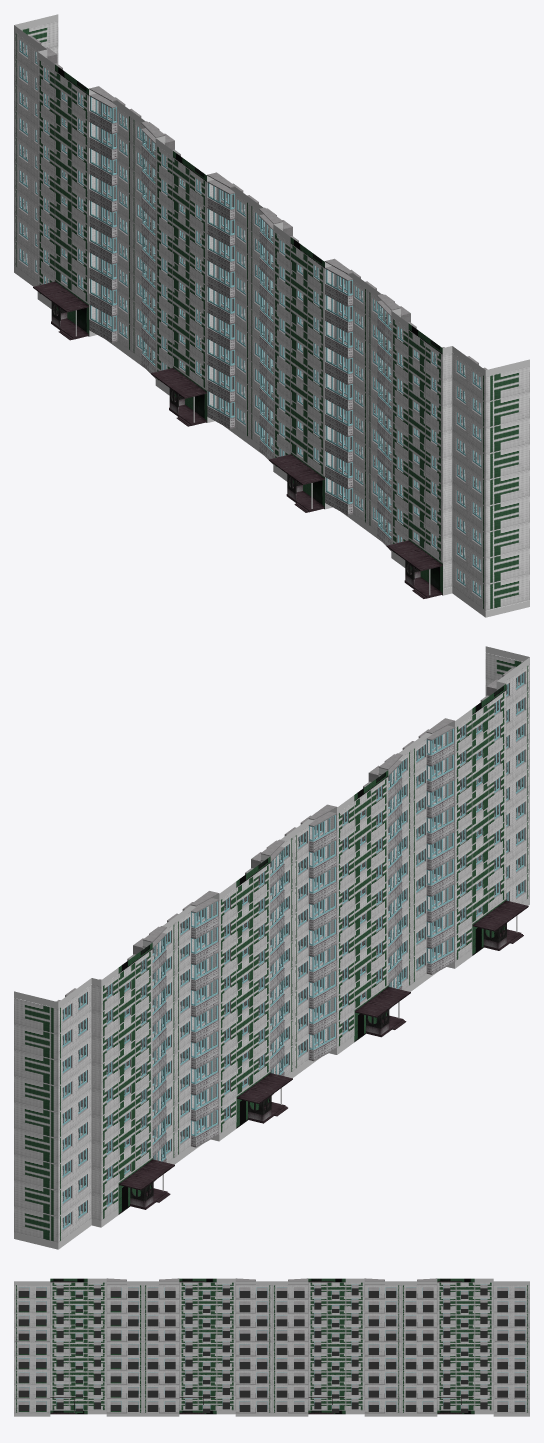
File: 303_cut.fbx
3 renders of one model, top to bottom at view 1: azimuth 30°, elevation 25°; view 2: azimuth 150°, elevation 25°; view 3: azimuth 270°, elevation 25°, orthographic. The views are drawn at different scales.
Parts seen in each view (by area): view 1: etaj.001, etaj.000, etaj.003, etaj.004, etaj.002, etaj.011, etaj.012, etaj.010, etaj.005, etaj.013, etaj.007, etaj.006 (+4 smaller); view 2: etaj.000, etaj.011, etaj.001, etaj.012, etaj.010, etaj.003, etaj.004, etaj.002, etaj.013, etaj.005, etaj.006, etaj.007 (+4 smaller); view 3: etaj.000, etaj.001, etaj.011, etaj.012, etaj.003, etaj.010, etaj.004, etaj.002, etaj.013, etaj.005, etaj004.001, etaj004.
Boxes of the visible parts, x1=… form: etaj.001: x1=250, y1=198, x2=529, y2=428; etaj.000: x1=14, y1=14, x2=258, y2=255; etaj.003: x1=245, y1=256, x2=529, y2=480; etaj.004: x1=250, y1=361, x2=529, y2=584; etaj.002: x1=260, y1=324, x2=529, y2=532; etaj.011: x1=14, y1=136, x2=273, y2=375; etaj.012: x1=14, y1=188, x2=263, y2=418; etaj.010: x1=14, y1=84, x2=249, y2=307; etaj.005: x1=259, y1=424, x2=529, y2=610; etaj.013: x1=14, y1=240, x2=269, y2=447; etaj.007: x1=151, y1=365, x2=207, y2=426; etaj.006: x1=33, y1=279, x2=89, y2=340; etaj.000: x1=14, y1=830, x2=298, y2=1060; etaj.011: x1=14, y1=918, x2=336, y2=1164; etaj.001: x1=284, y1=646, x2=529, y2=887; etaj.012: x1=14, y1=987, x2=308, y2=1216; etaj.010: x1=14, y1=889, x2=293, y2=1112; etaj.003: x1=280, y1=716, x2=529, y2=939; etaj.004: x1=295, y1=820, x2=529, y2=1034; etaj.002: x1=314, y1=768, x2=529, y2=981; etaj.013: x1=14, y1=1033, x2=318, y2=1243; etaj.005: x1=313, y1=872, x2=529, y2=1060; etaj.006: x1=118, y1=1157, x2=174, y2=1213; etaj.007: x1=236, y1=1071, x2=292, y2=1127; etaj.000: x1=267, y1=1278, x2=529, y2=1313; etaj.001: x1=14, y1=1278, x2=271, y2=1313; etaj.011: x1=238, y1=1339, x2=529, y2=1370; etaj.012: x1=256, y1=1367, x2=529, y2=1398; etaj.003: x1=14, y1=1310, x2=279, y2=1341; etaj.010: x1=272, y1=1310, x2=529, y2=1341; etaj.004: x1=14, y1=1367, x2=270, y2=1398; etaj.002: x1=14, y1=1339, x2=255, y2=1370; etaj.013: x1=250, y1=1396, x2=529, y2=1413; etaj.005: x1=14, y1=1396, x2=255, y2=1413; etaj004.001: x1=272, y1=1410, x2=529, y2=1416; etaj004: x1=14, y1=1410, x2=271, y2=1416.
Size of the model in its own units: 1049 by 3265 by 11234.
